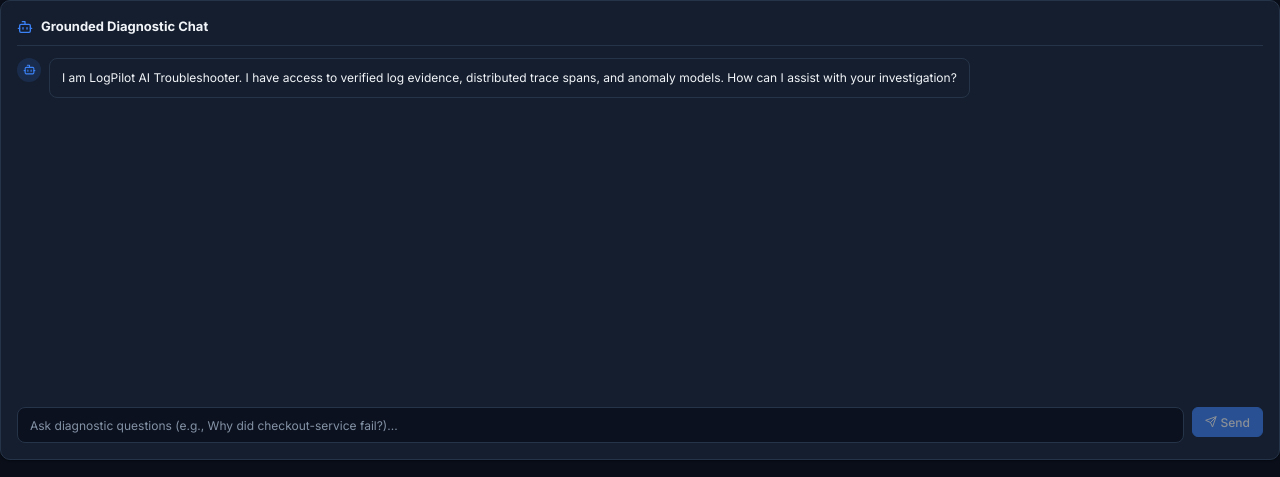
Phase 11: Gemini AI Troubleshooter UI Components › DiagnosticChat › renders chat input and handles message submission
Expected: the heading "Grounded Diagnostic Chat" is shown, [41,17,208,36]
Replace the text in the field with placeholder "Ask diagnostic questions" with "Why did the service fail?" at (600, 425), box [17,407,1184,443]
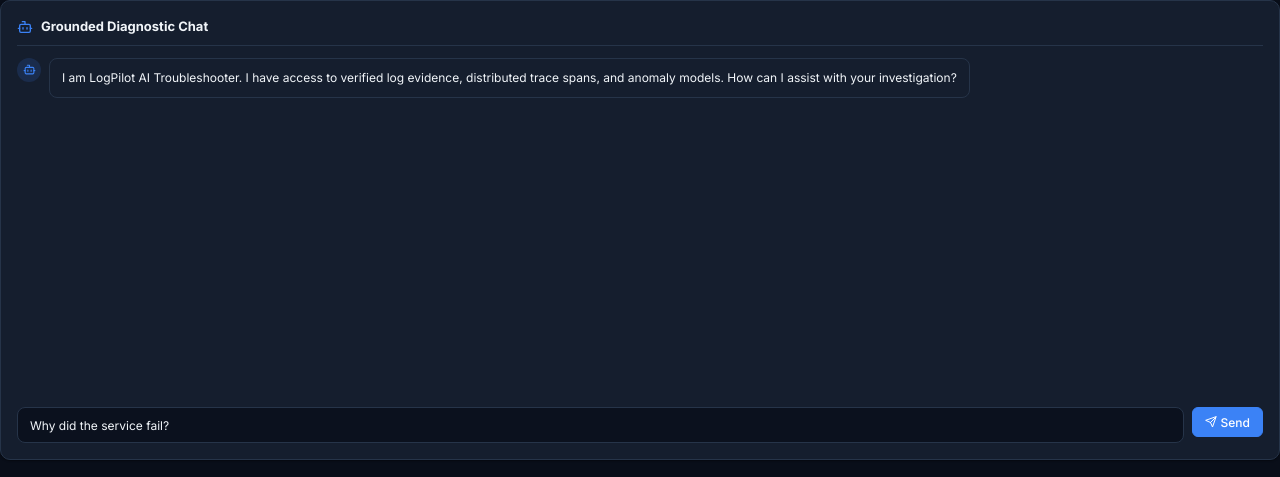
Click the button "Send" at (1227, 422), box [1192,407,1263,437]
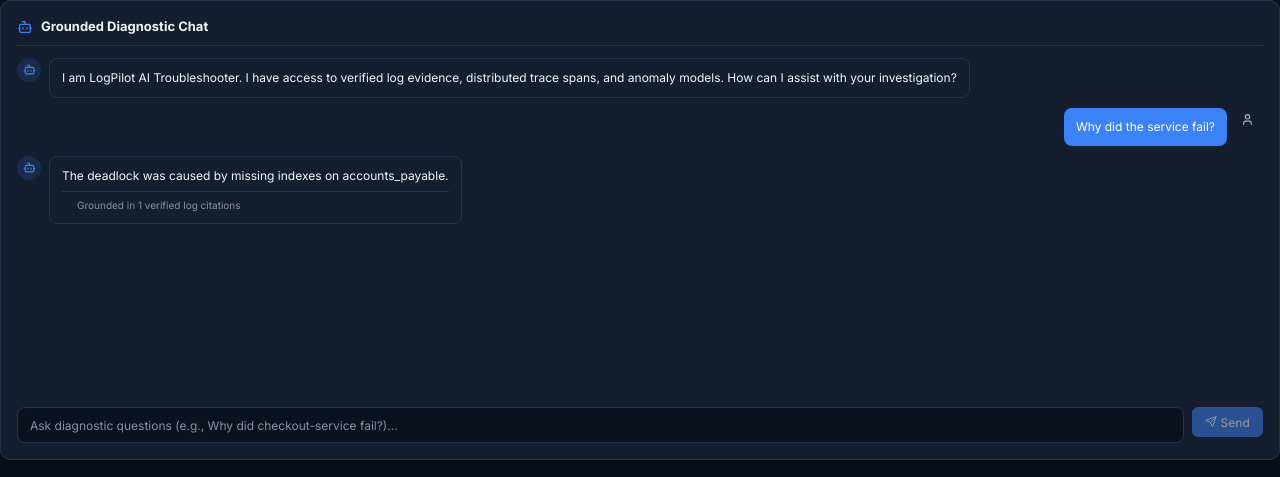
Expected: the text "The deadlock was caused by missing indexes on accounts_payable." is shown, [62,166,449,184]
